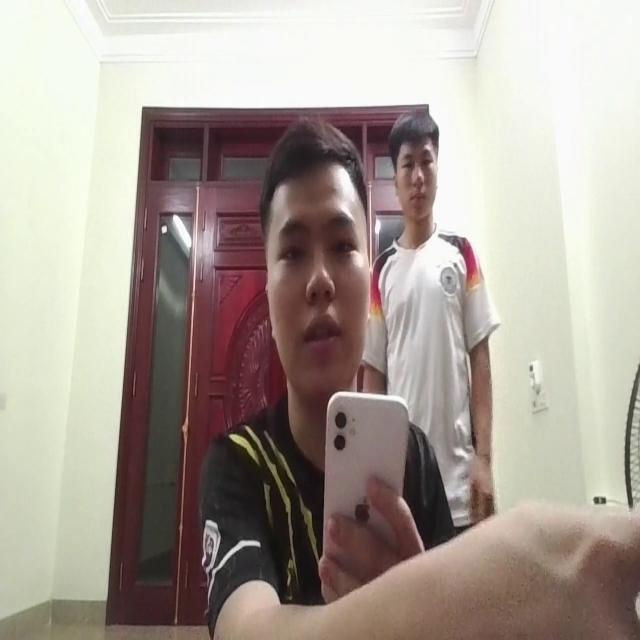extra_person: (374, 113, 494, 522)
phone: (314, 384, 406, 592)
student: (196, 117, 439, 640)
